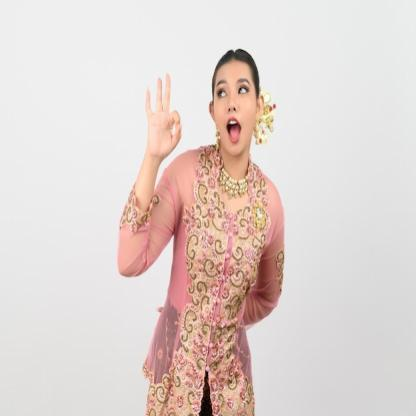ok: (142, 69, 184, 163)
